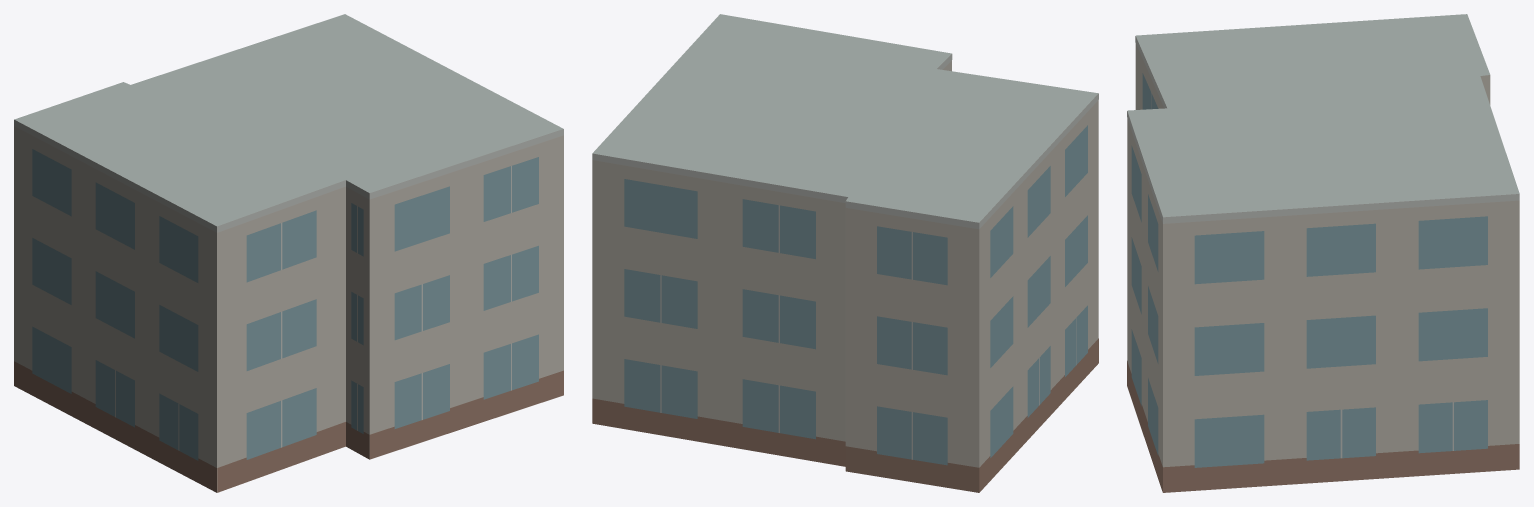
The model's file is survey-upis-33027022.glb.
3 renders of one model, left to right at view 1: azimuth 30°, elevation 25°; view 2: azimuth 150°, elevation 25°; view 3: azimuth 270°, elevation 25°, orthographic. The views are drawn at different scales.
Parts seen in each view (by area): view 1: survey-upis-33027022.tmp; view 2: survey-upis-33027022.tmp; view 3: survey-upis-33027022.tmp.
Part boxes in pixels (x1=…): survey-upis-33027022.tmp: x1=14, y1=14, x2=563, y2=492; survey-upis-33027022.tmp: x1=592, y1=14, x2=1098, y2=492; survey-upis-33027022.tmp: x1=1127, y1=14, x2=1519, y2=492.
Bounding box in the file's own units: 15.99 × 10.1 × 13.05.
